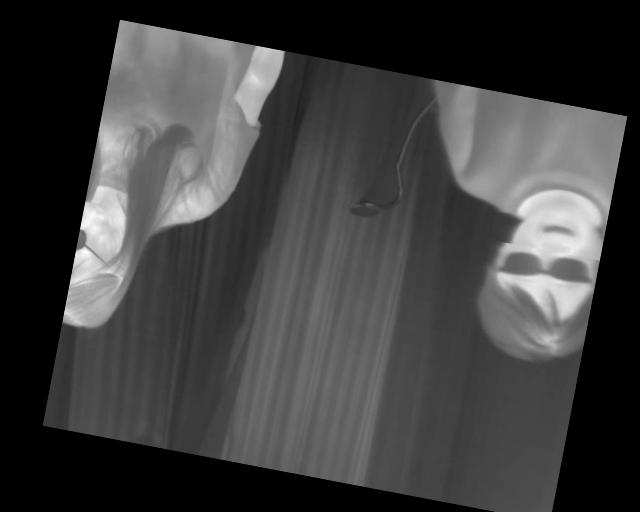face: (469, 191, 608, 369)
